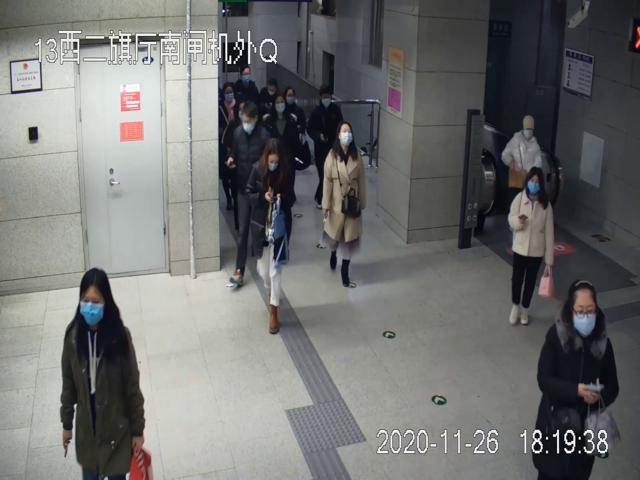person: (60, 266, 144, 480), (533, 280, 621, 480), (248, 138, 297, 337), (228, 103, 272, 290), (321, 120, 368, 289), (507, 166, 556, 323), (501, 112, 543, 224)
